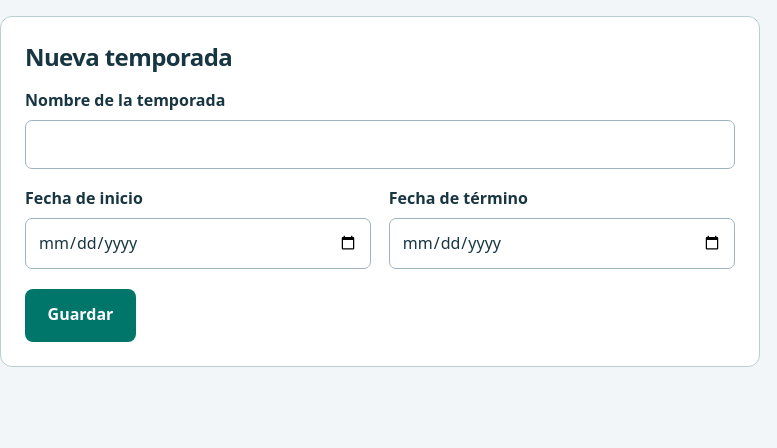
formularios de gestión › conserva los campos y permite reintentar tras un fallo de almacenamiento
This screenshot has width=777, height=448.
In the field labelled "Nombre de la temporada": (380, 144) x1=25 y1=120 x2=735 y2=169, type "2026"
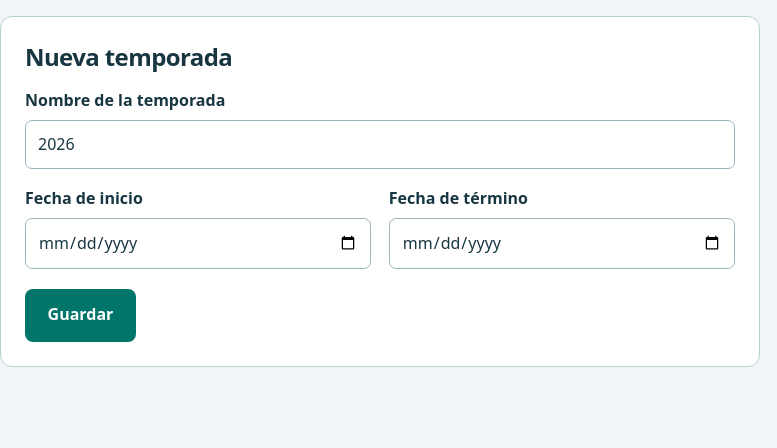
In the date field labelled "Fecha de inicio": (198, 243) x1=25 y1=218 x2=371 y2=268, type "2026-01-01"
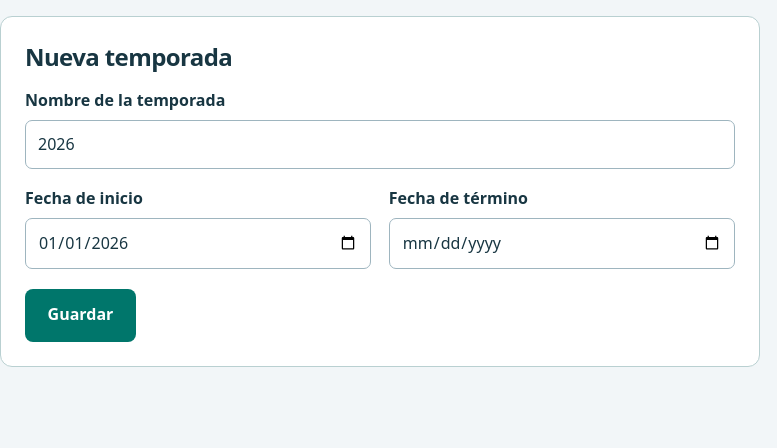
In the date field labelled "Fecha de término": (562, 243) x1=389 y1=218 x2=735 y2=268, type "2026-12-31"
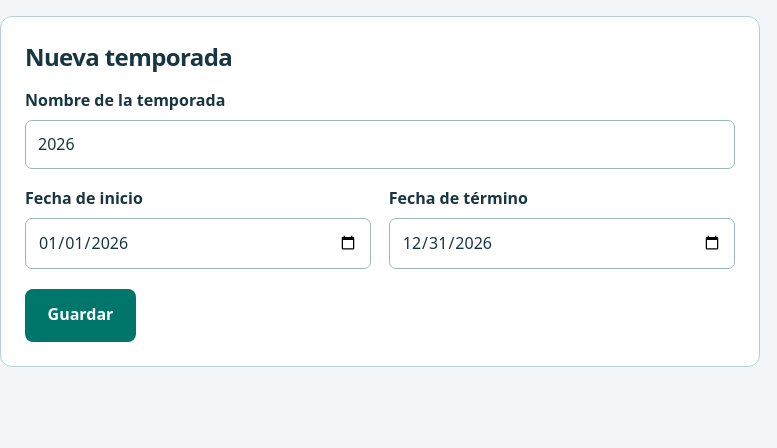
Click the button "Guardar": (80, 315) x1=25 y1=288 x2=136 y2=342
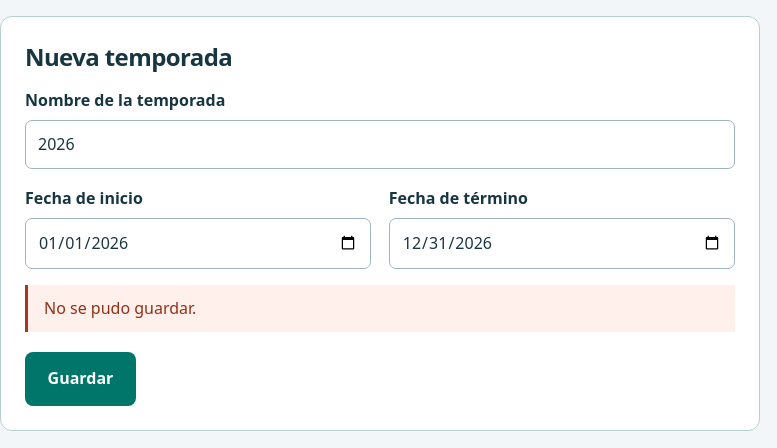
Expected: the button "Guardar" is enabled, x1=25 y1=352 x2=136 y2=406
Expected: the message reads "No se pudo guardar.", x1=44 y1=297 x2=196 y2=319
